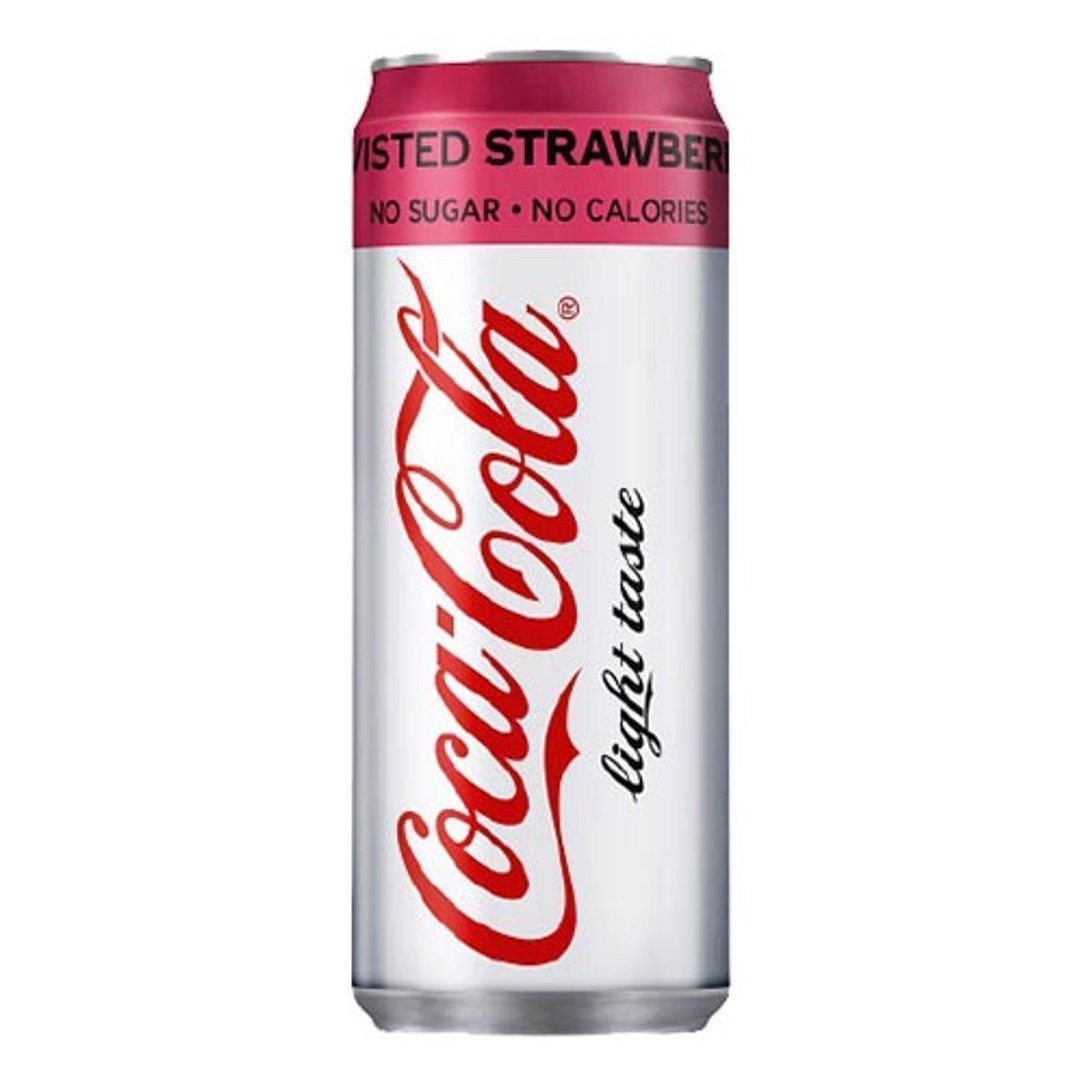tin can: (345, 43, 736, 1046)
